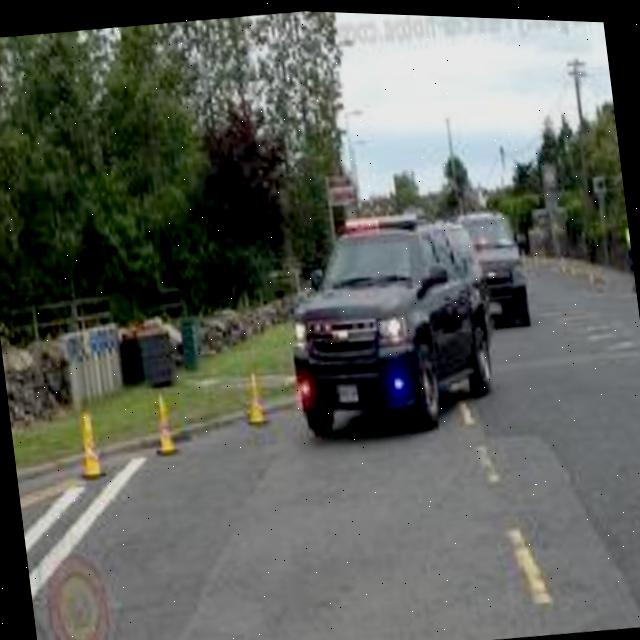emergency: (272, 203, 497, 445)
